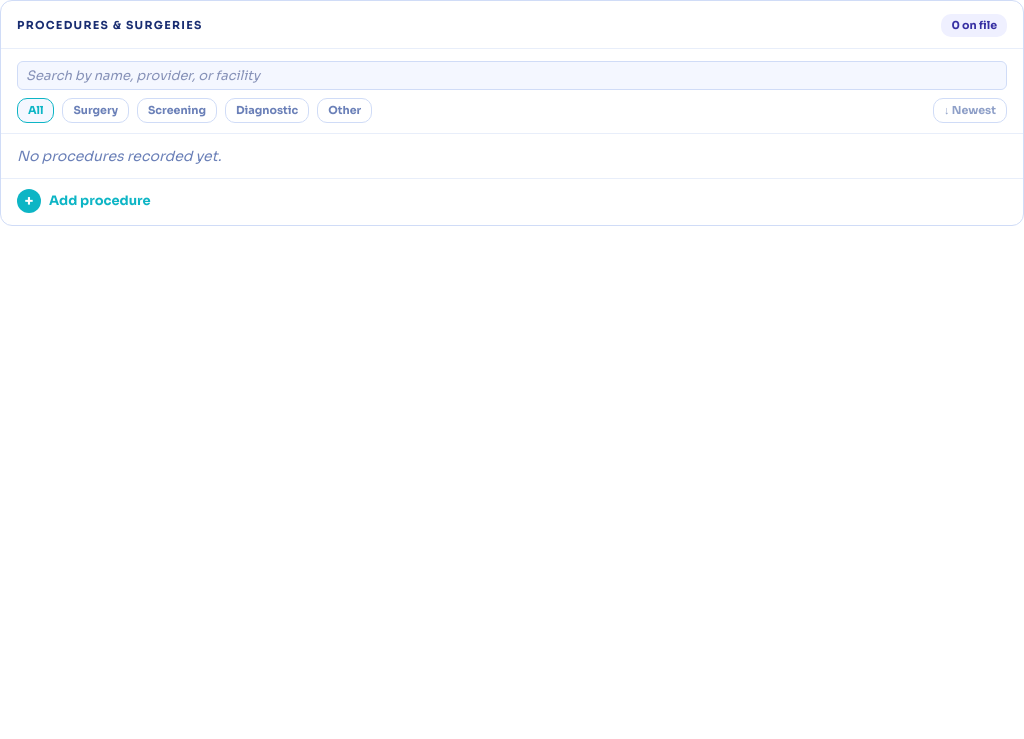
Test: ProcedureList — add form › clicking Add procedure opens the form
The width and height of the screenshot is (1024, 739).
Click the button "+ Add procedure": coordinates (100, 200) 1,178 -> 1023,224
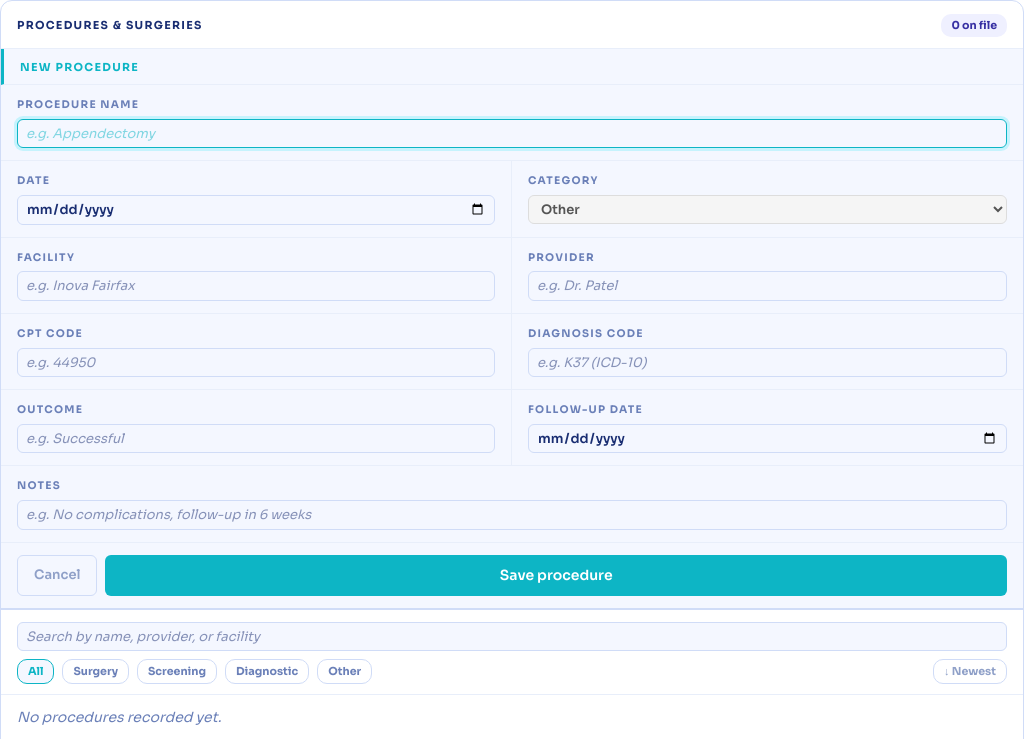
Result: the text "New Procedure" is shown at 20,58 -> 139,75
